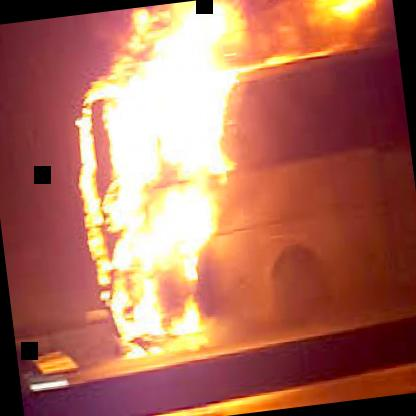fire: (40, 0, 416, 362)
